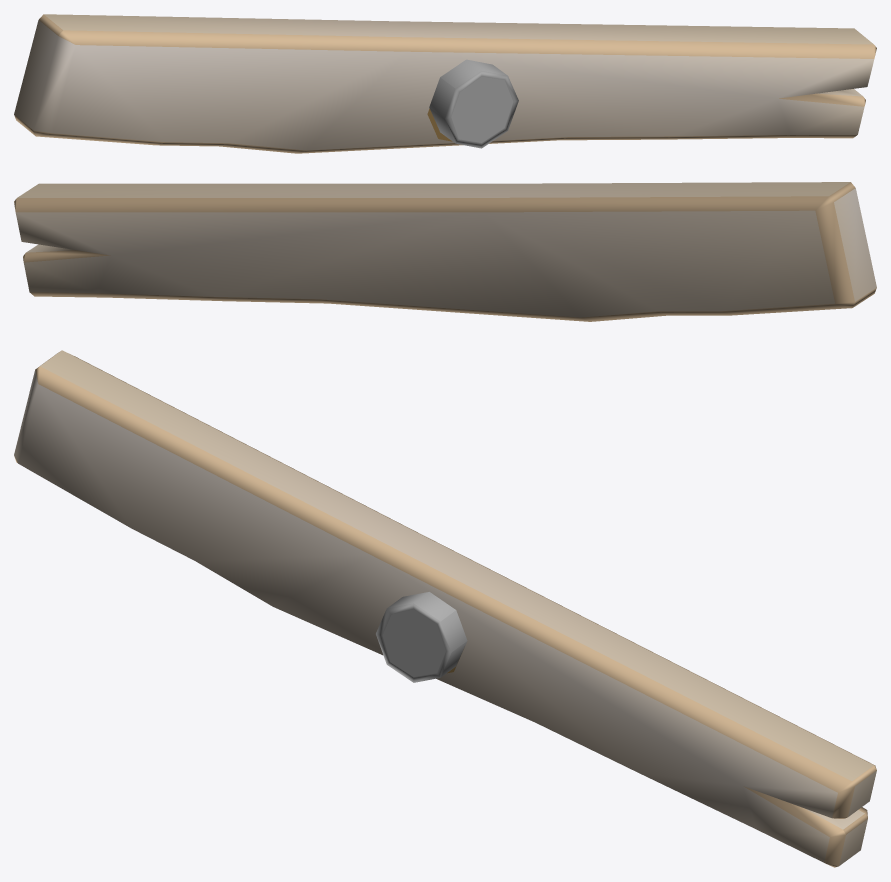
File: arms.glb
3 views of the same model, one above another, from view 1: azimuth 30°, elevation 25°; view 2: azimuth 150°, elevation 25°; view 3: azimuth 330°, elevation 25° (orthographic). The views are drawn at different scales.
Parts seen in each view (by area): view 1: arms; view 2: arms; view 3: arms.
Part boxes in pixels (x1,y1,x2,y2): arms: (14,14,876,153); arms: (14,182,876,321); arms: (14,350,876,867).
Bounding box in the file's own units: 1.19 × 0.4019 × 0.1392.
